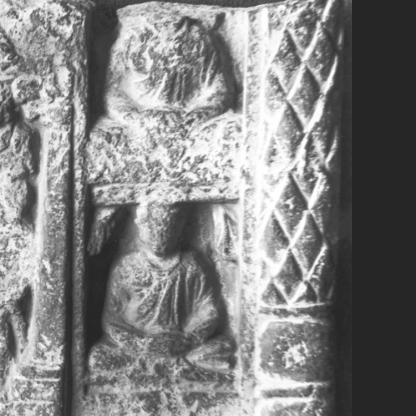buddha-sitting: (85, 202, 234, 416)
